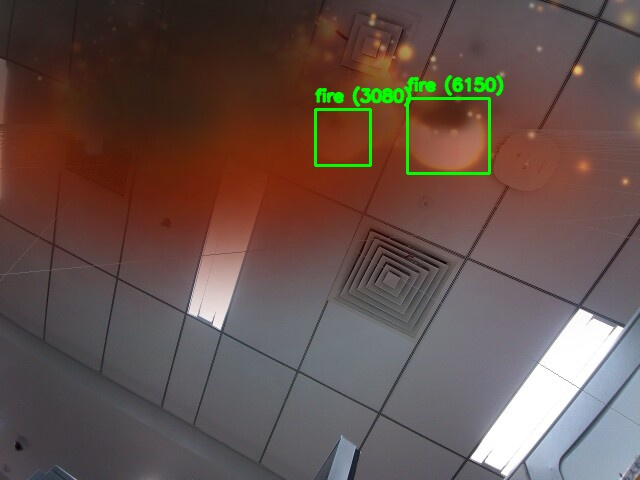fire: (407, 98, 489, 173), (315, 109, 370, 165)
